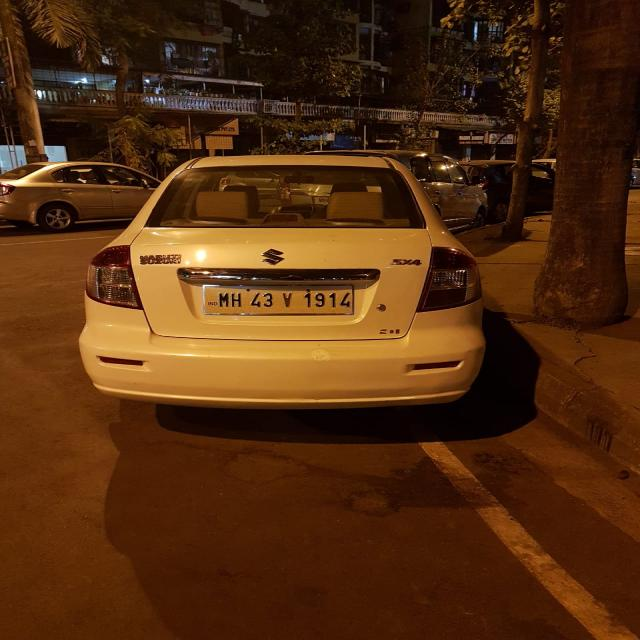Number-Plate: (206, 282, 349, 314)
